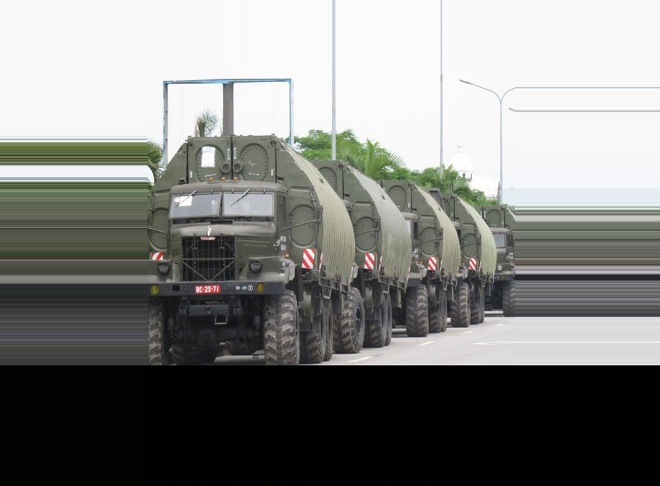plate: (192, 285, 220, 296)
